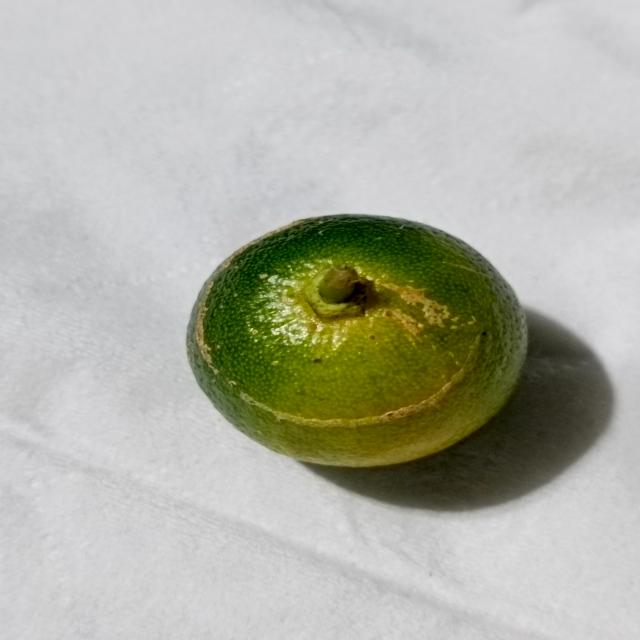thrips: (178, 202, 538, 476)
